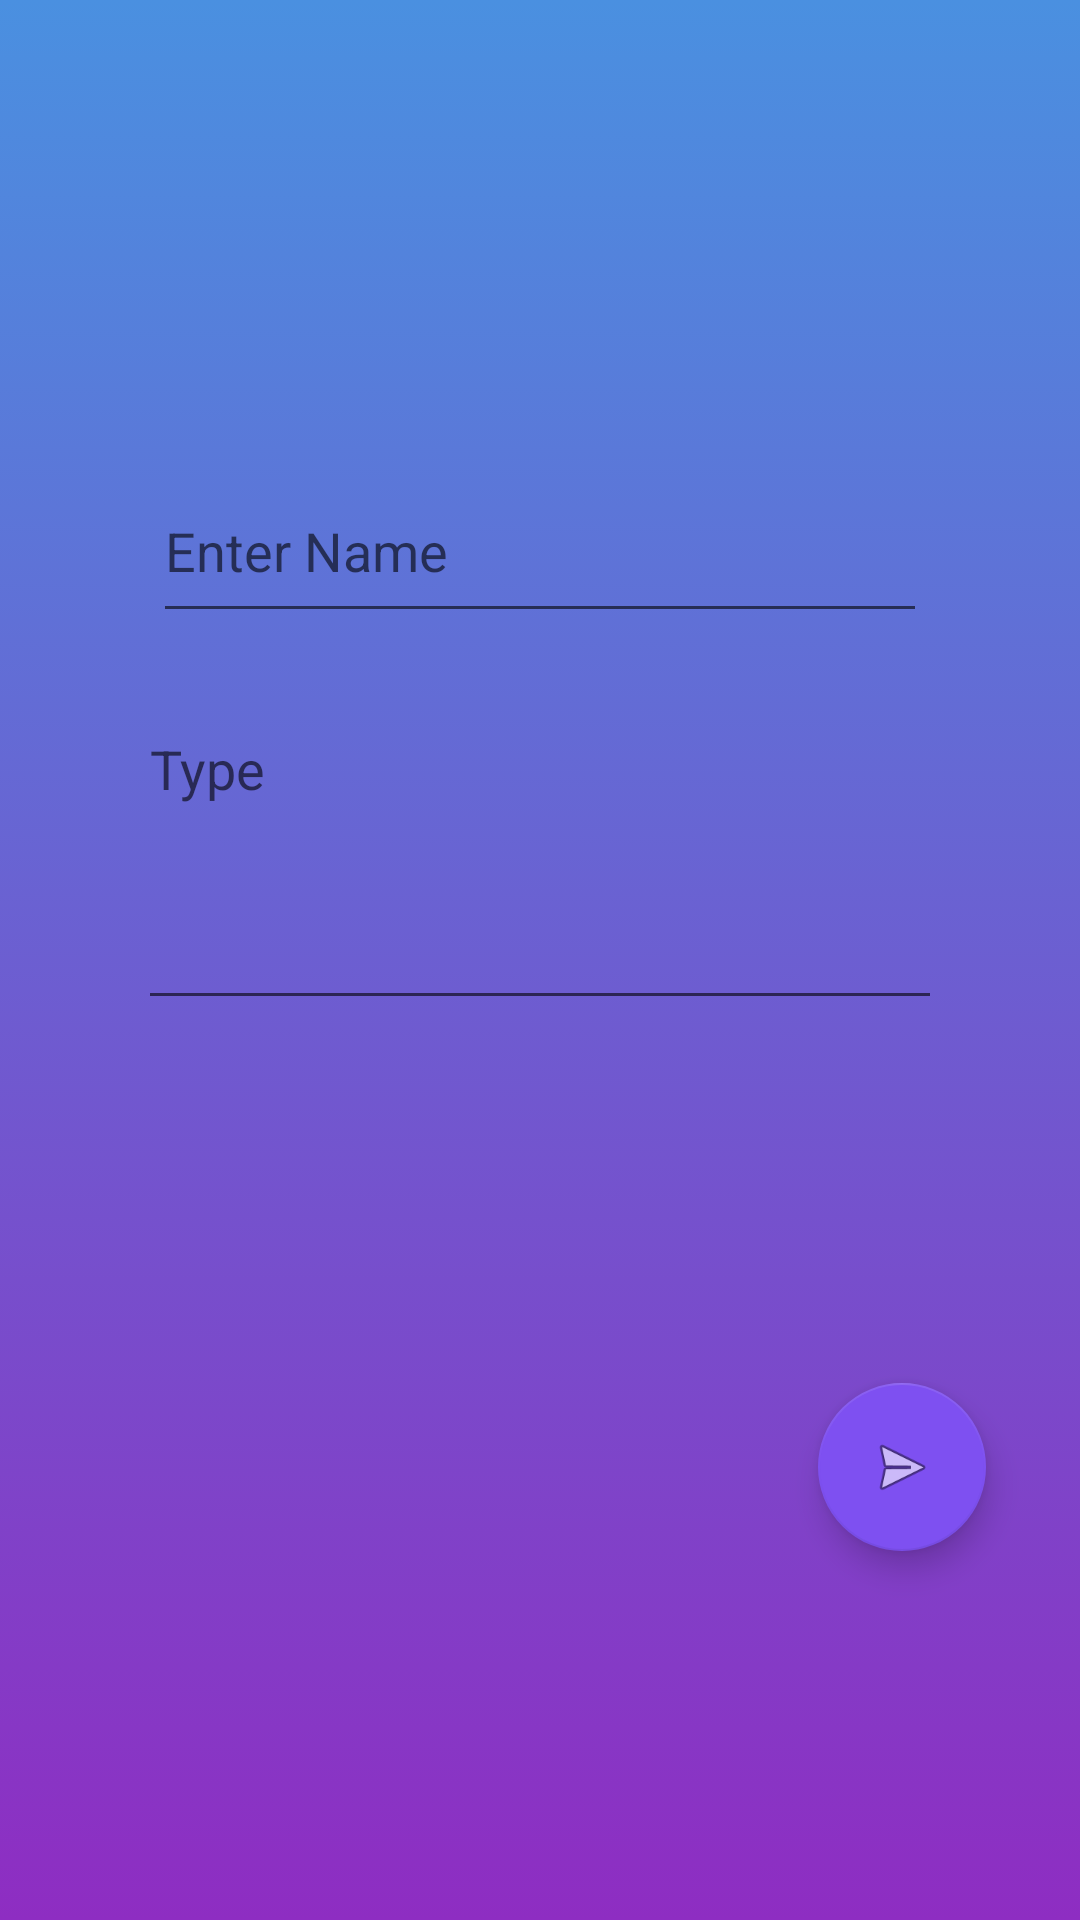

Named icons in this screenshot (1080px x 1920px) and their bounding boxes, (x1, y1, x2, y2):
send: (818, 1383, 986, 1551)
